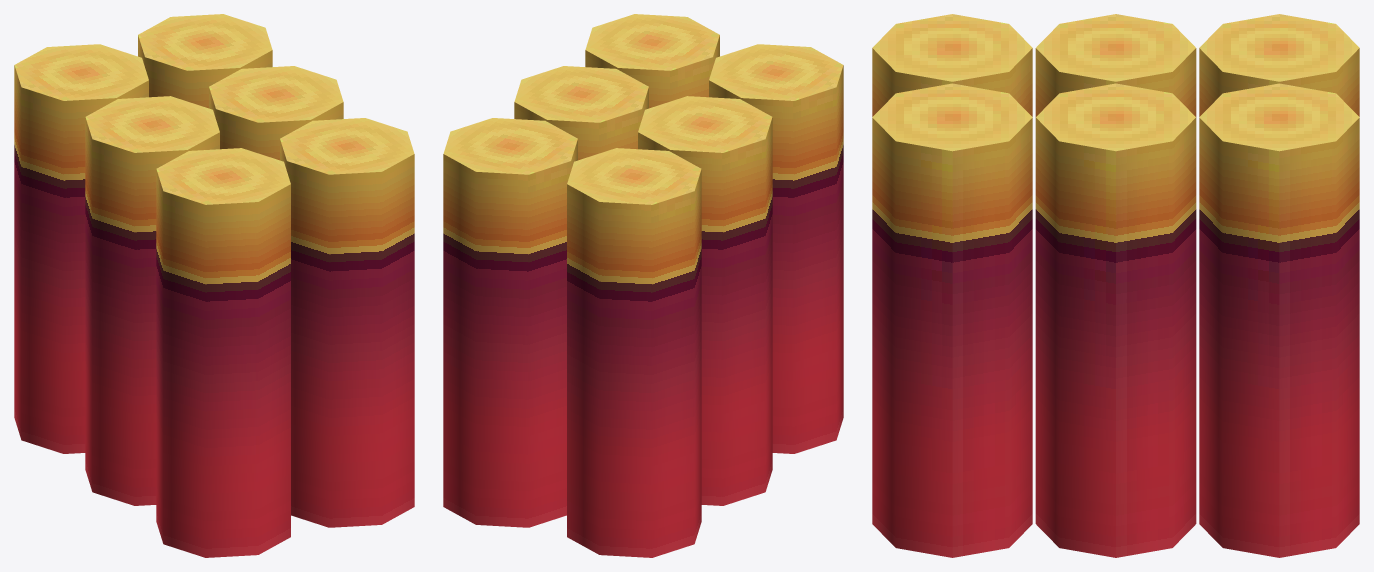
3 views of the same model, side by side, from view 1: azimuth 30°, elevation 25°; view 2: azimuth 150°, elevation 25°; view 3: azimuth 270°, elevation 25° (orthographic). The views are drawn at different scales.
Parts seen in each view (by area): view 1: Ammo; view 2: Ammo; view 3: Ammo.
Part boxes in pixels (x1,y1,x2,y2): Ammo: [14, 14, 414, 557]; Ammo: [443, 14, 843, 557]; Ammo: [872, 14, 1359, 557].
Size of what is drawn, in the model's own units: 0.1569 by 0.2354 by 0.2167.
Materials: 1 (1 with a texture image).
